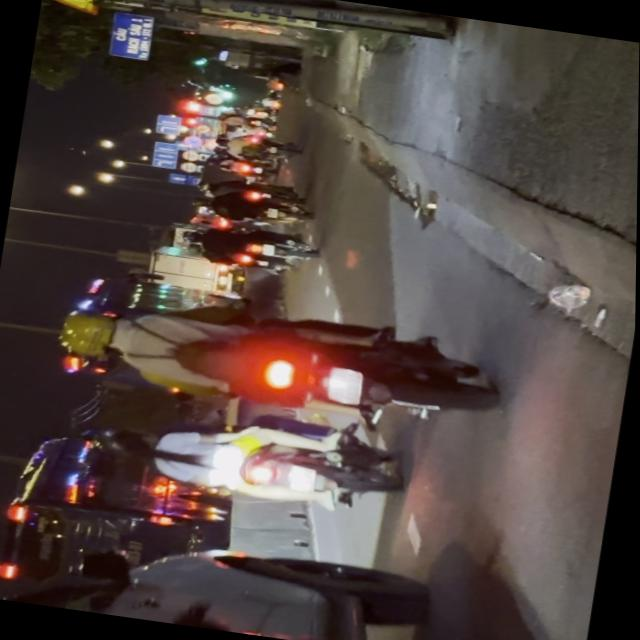helmet: (56, 307, 133, 362)
licenseplate: (44, 274, 509, 446), (82, 388, 411, 522)
motorcyclist: (109, 424, 171, 462)
nohelmet: (325, 366, 366, 406), (288, 466, 318, 492)
